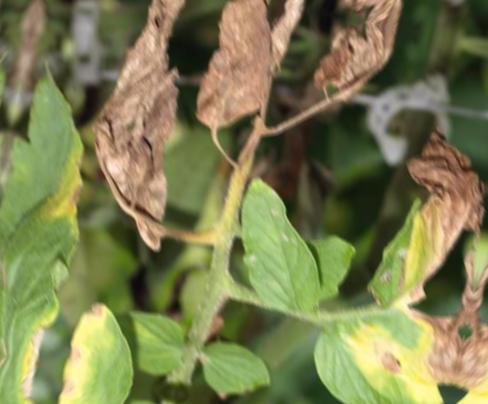Tomato Early blight leaf: (0, 57, 111, 366), (301, 291, 468, 404), (55, 286, 160, 387)
Tomato leaf: (217, 174, 353, 316)
